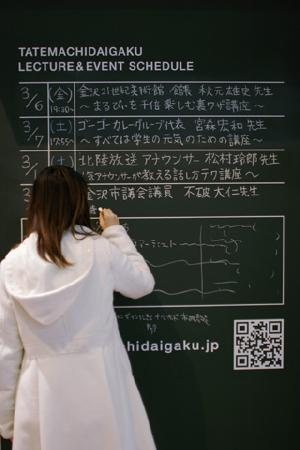person: (1, 166, 156, 450)
